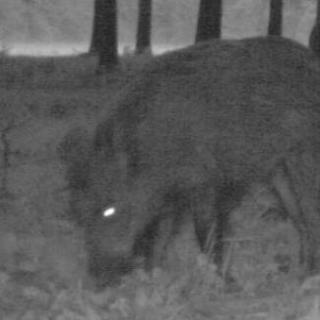Pig: (62, 27, 320, 294)
